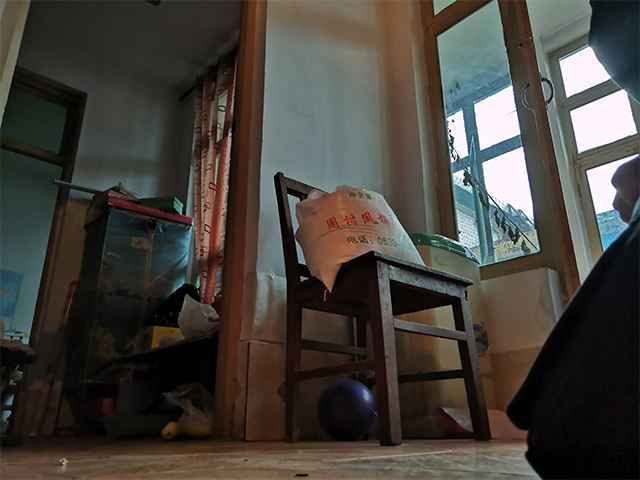cabinet: (51, 195, 194, 440)
stool: (272, 170, 493, 447)
